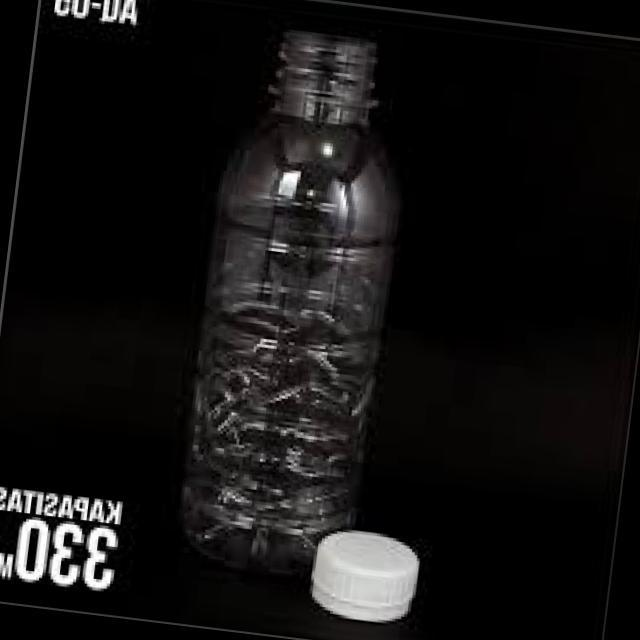good: (143, 22, 464, 550)
